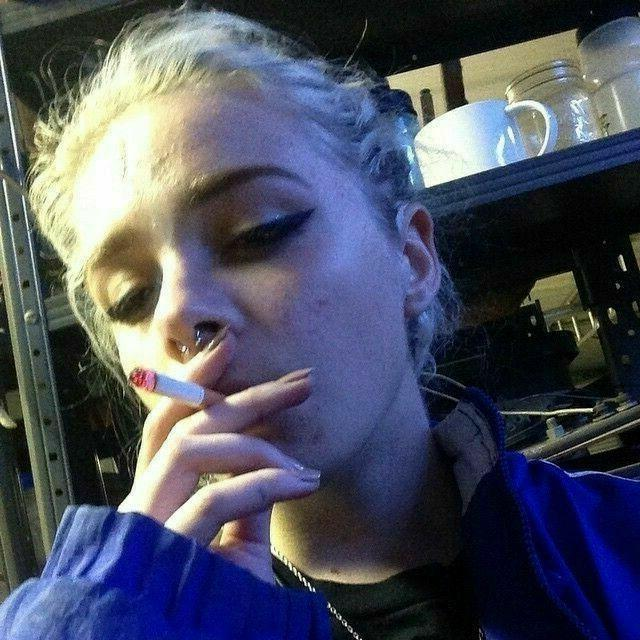rokok: (128, 366, 232, 409)
